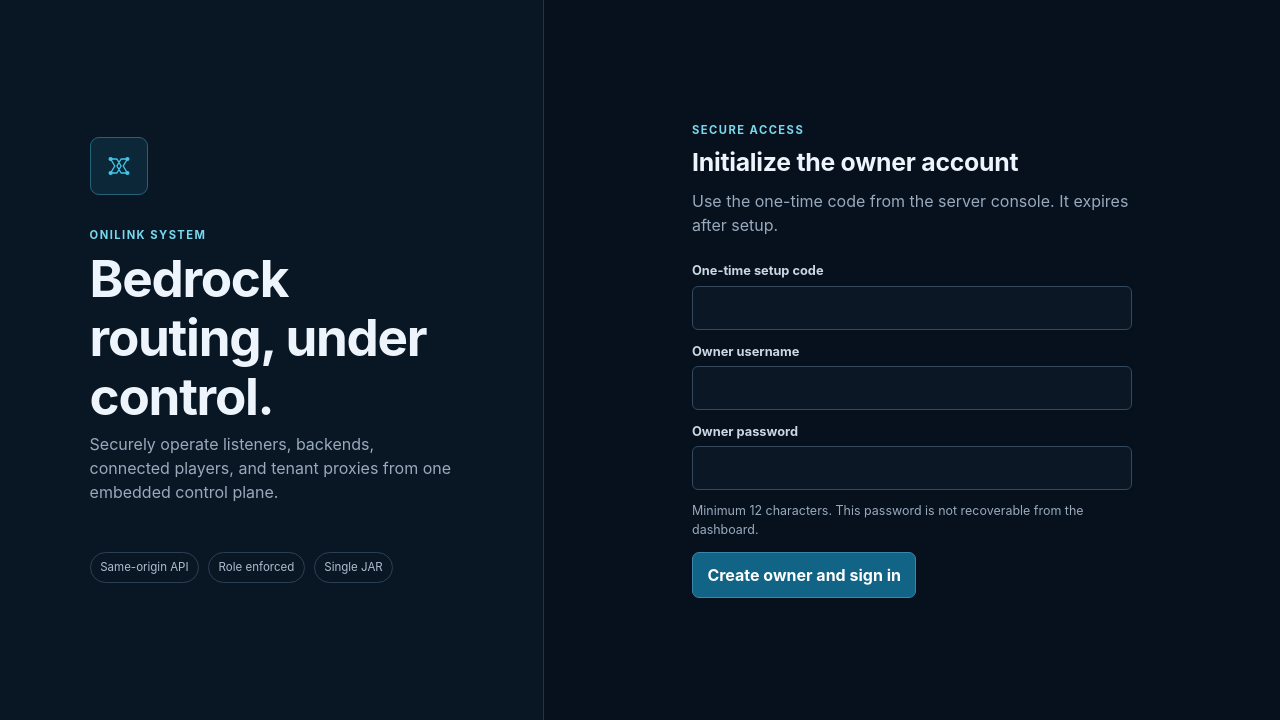
Test: authentication and shell › completes first-run owner setup
Expected: the heading "Initialize the owner account" is shown, top-left (692, 147), bottom-right (1018, 177)
Type "SETUP-123" into the field labelled "One-time setup code" at (912, 308), box top-left (692, 286), bottom-right (1132, 330)
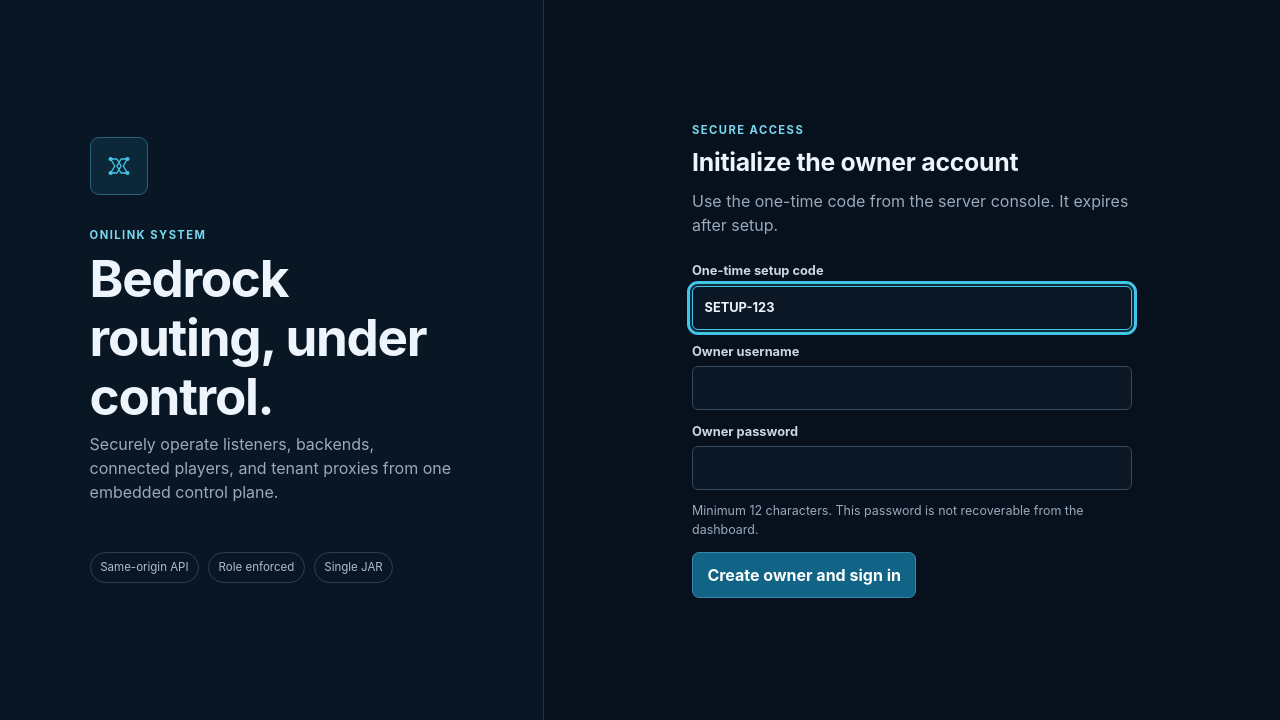
Type "owner" into the field labelled "Owner username" at (912, 388), box top-left (692, 366), bottom-right (1132, 410)
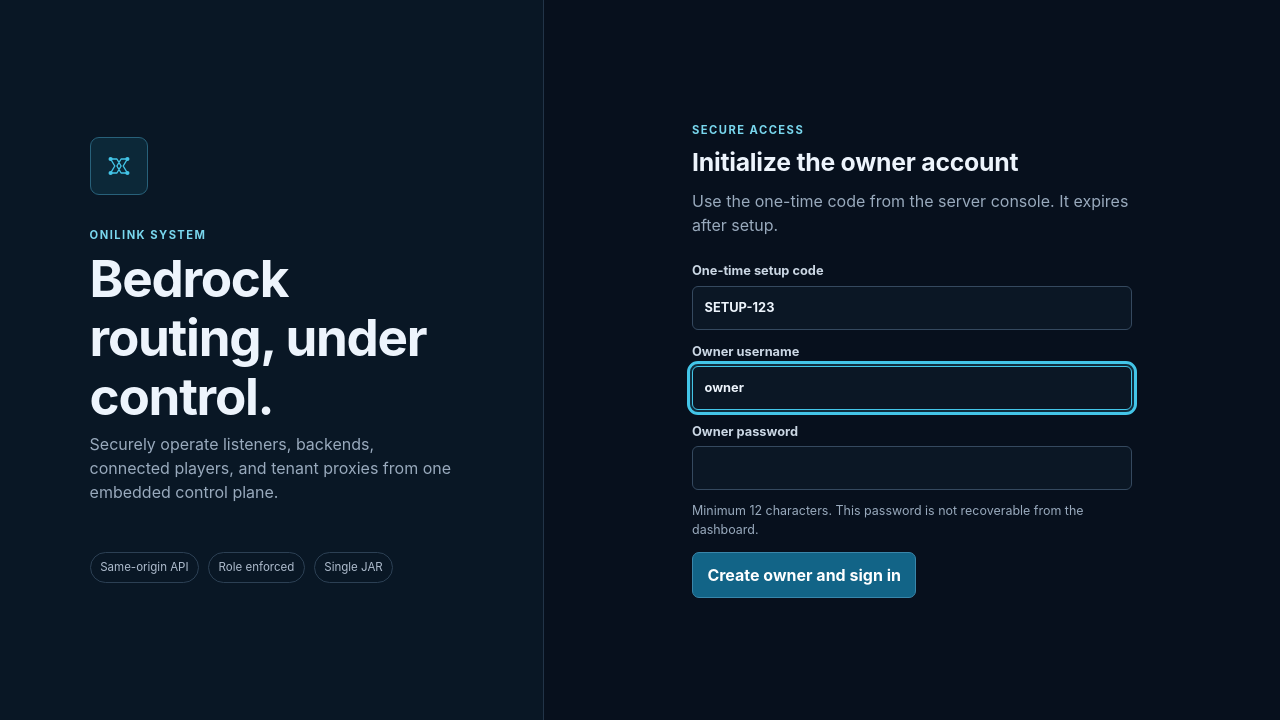
Type "correct horse battery staple" into the password field labelled "Owner password" at (912, 468), box top-left (692, 446), bottom-right (1132, 490)
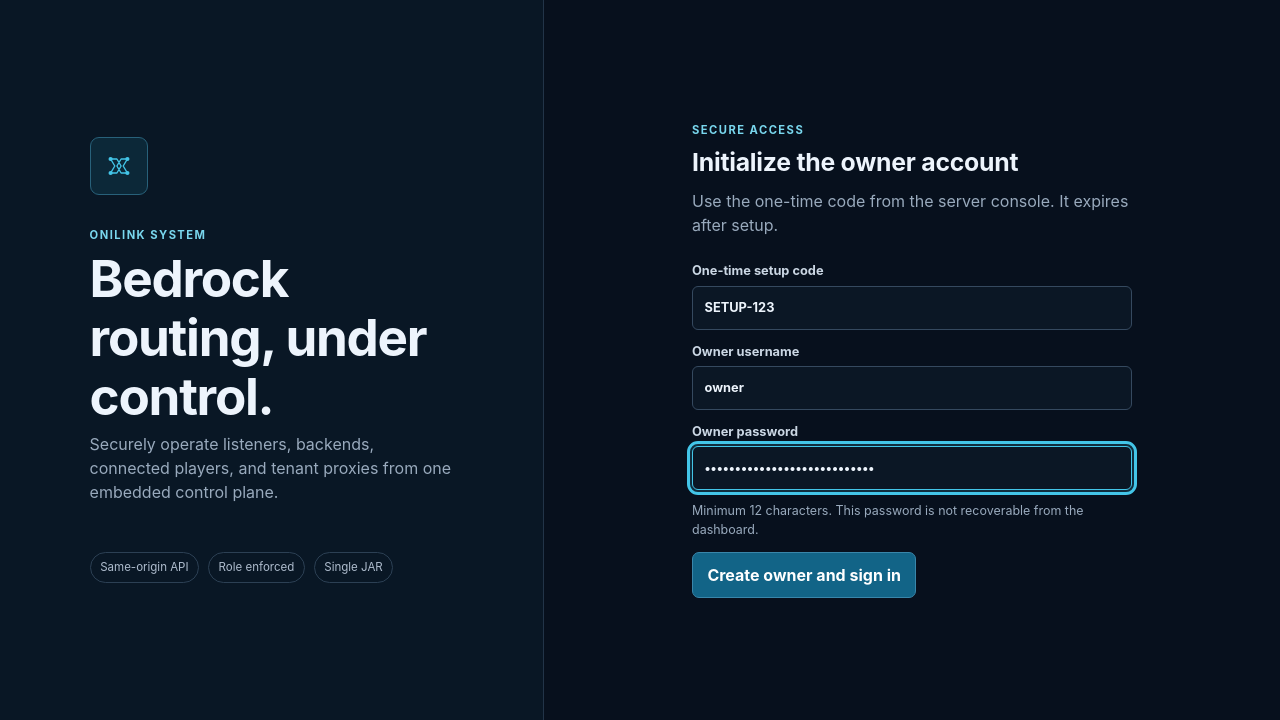
Click the button "Create owner and sign in" at (804, 575), box top-left (692, 552), bottom-right (916, 598)
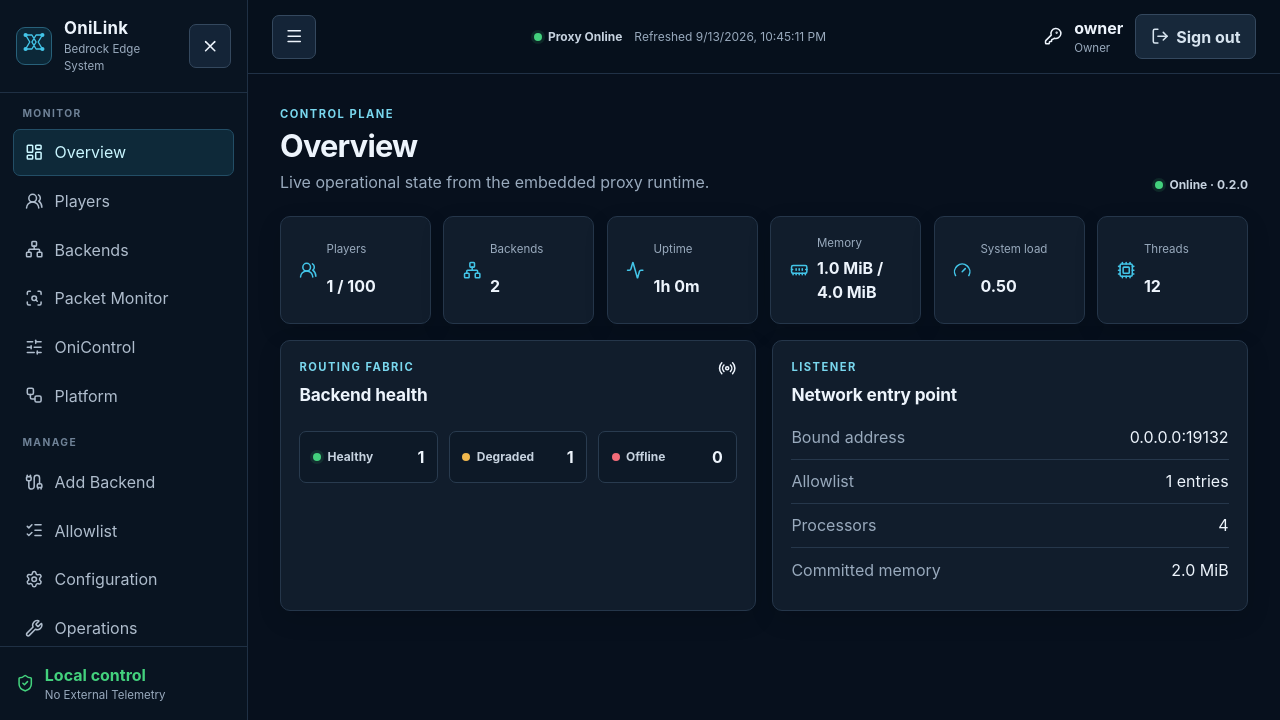
Result: the heading "Overview" is shown at top-left (280, 127), bottom-right (417, 164)
